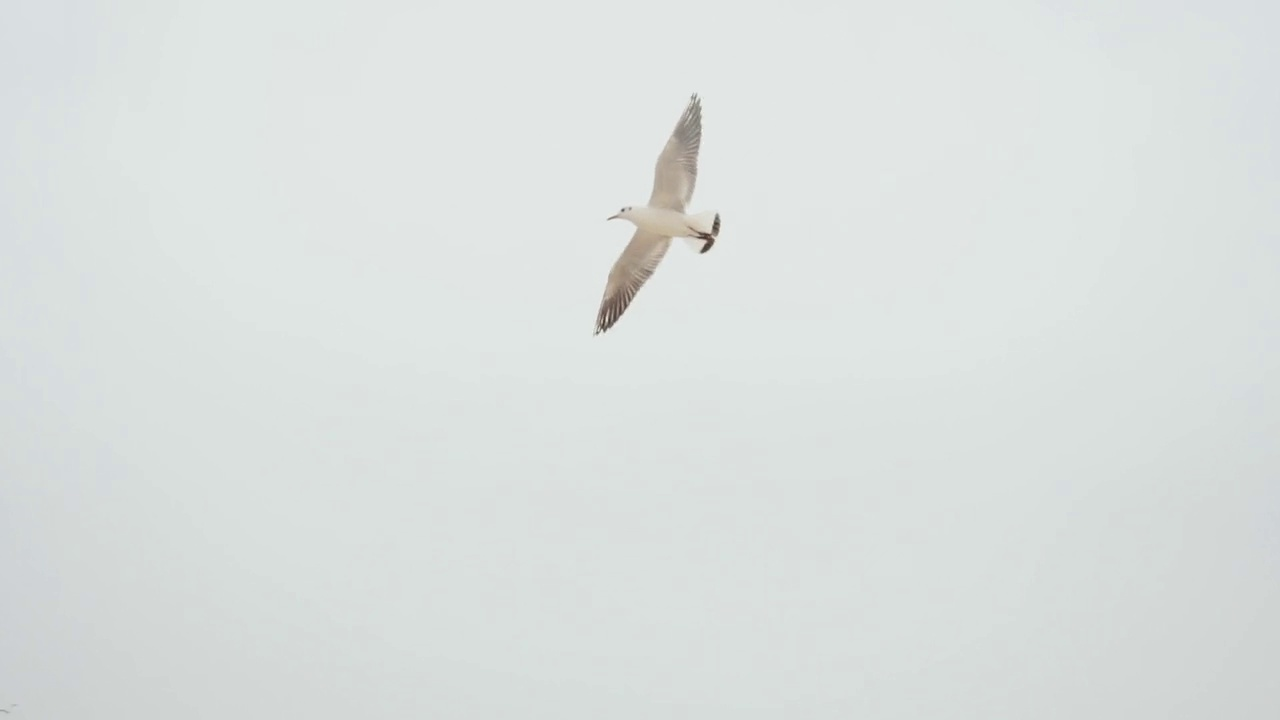bird: (596, 91, 720, 329)
